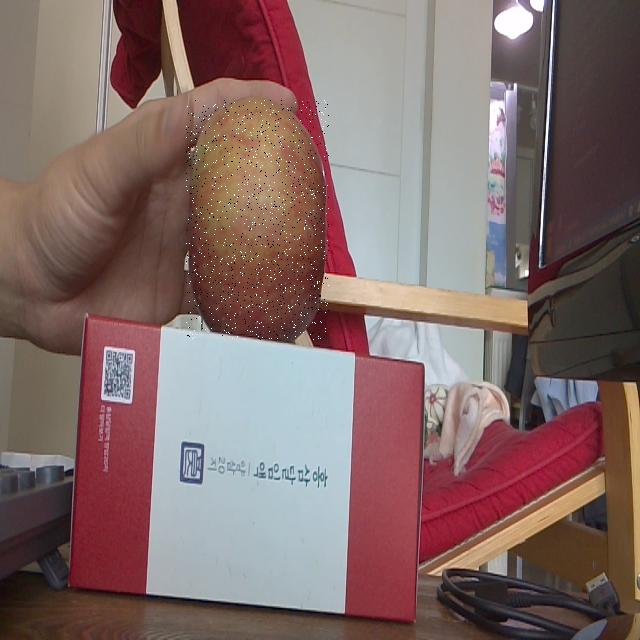apple: (186, 100, 329, 340)
